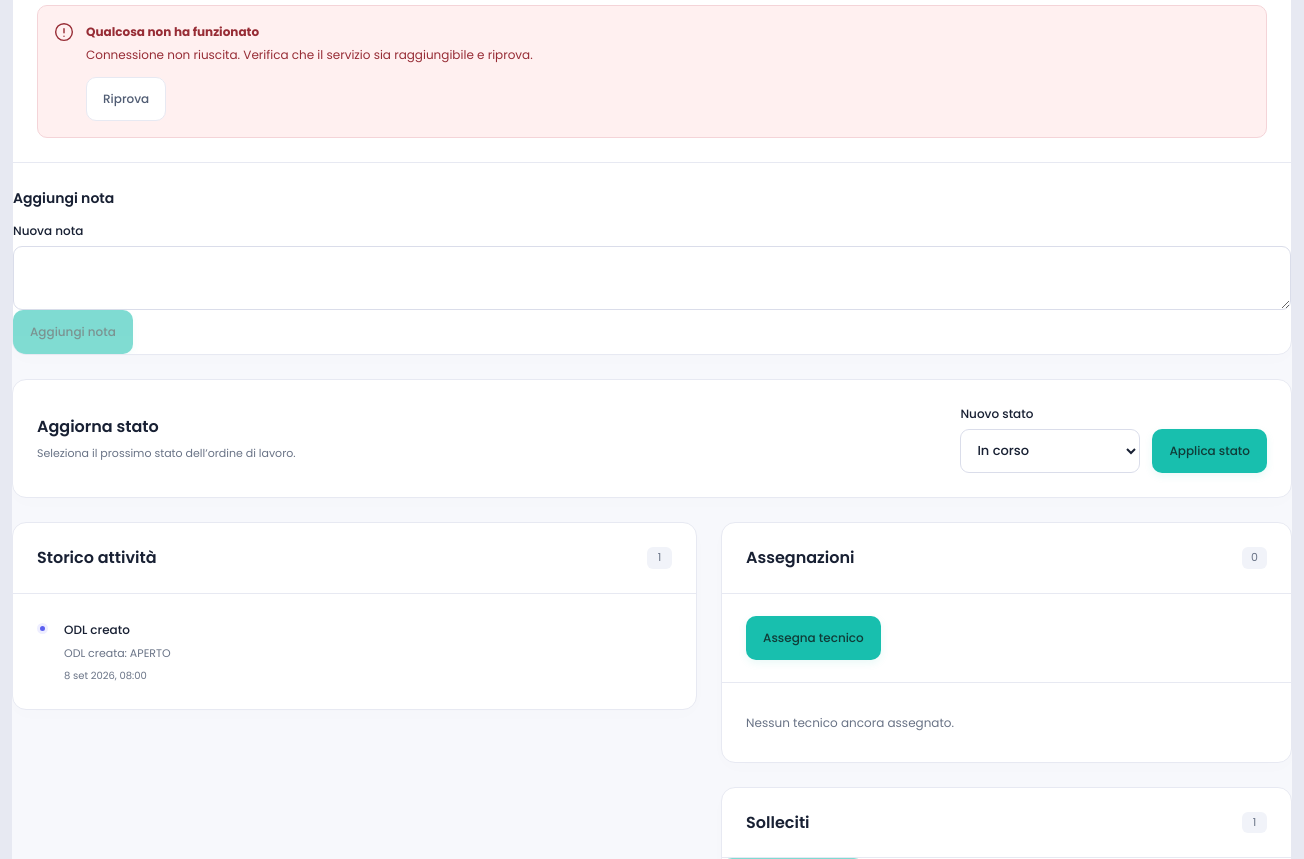
Test: shows a status conflict inline without claiming success
(page scrolled)
Expected: the dropdown labelled "Nuovo stato" is shown, [960,429,1140,473]
Click the button "Applica stato". click: [1210, 451]
box: [1152,429,1267,473]
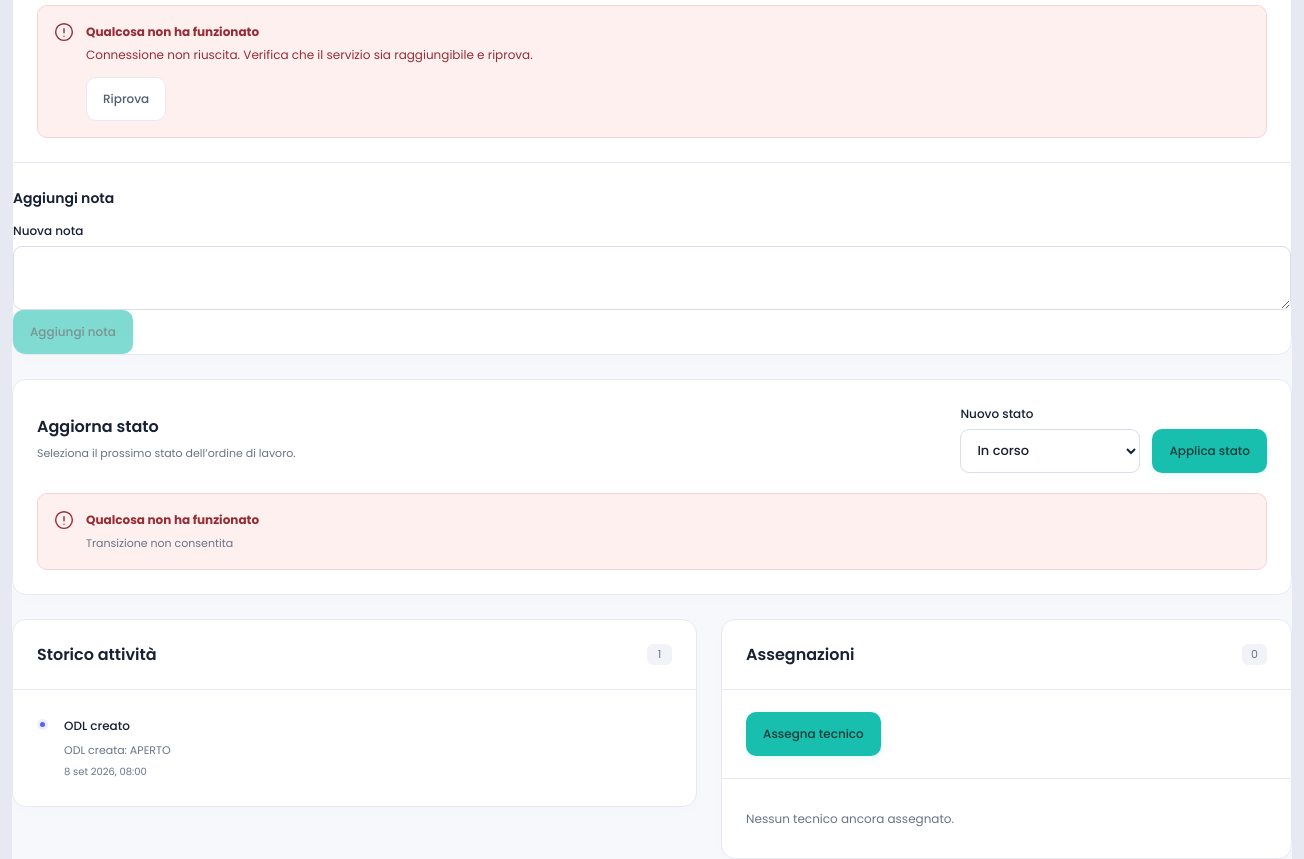
Result: the text "Transizione non consentita" is shown at [86,535,233,551]
